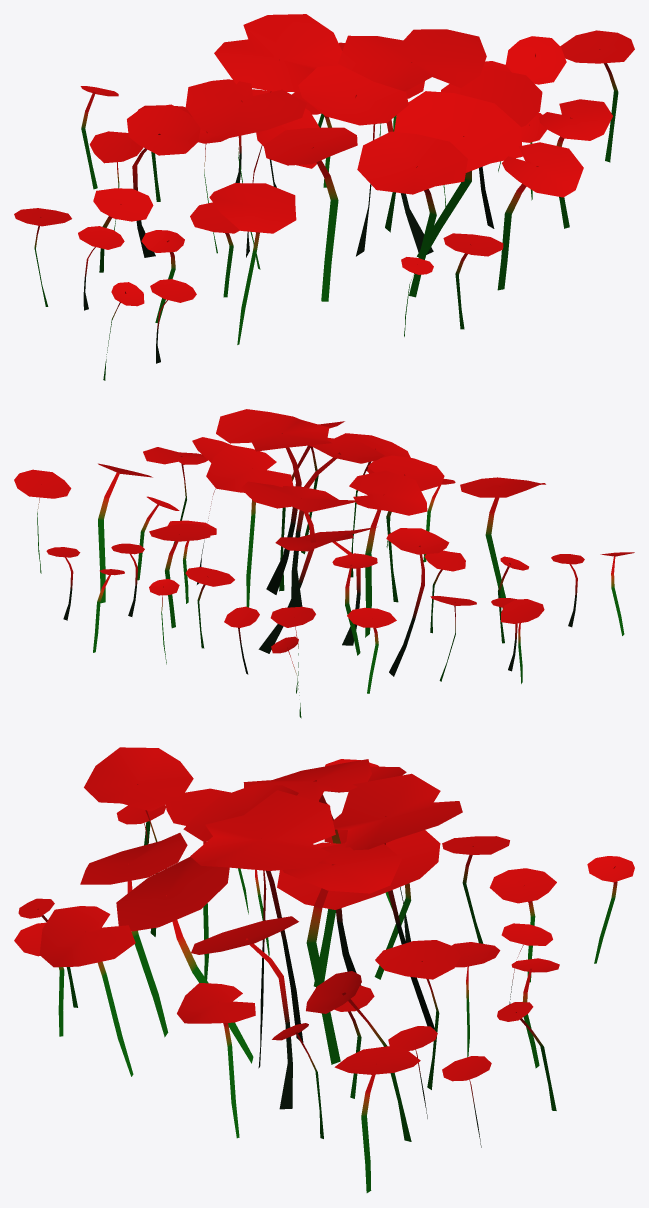
File: rijwE_Var3_LOD0.fbx
The picture shows the model from 3 angles, top to bottom: view 1: azimuth 30°, elevation 25°; view 2: azimuth 150°, elevation 25°; view 3: azimuth 270°, elevation 25°; orthographic projection. The views are drawn at different scales.
Parts seen in each view (by area): view 1: _aa07_Var3_LOD0; view 2: _aa07_Var3_LOD0; view 3: _aa07_Var3_LOD0.
Boxes of the visible parts, bbox=[...] form: _aa07_Var3_LOD0: bbox=[14, 14, 634, 380]; _aa07_Var3_LOD0: bbox=[14, 409, 634, 718]; _aa07_Var3_LOD0: bbox=[14, 747, 634, 1192].
Size of the model in its own units: 73.89 by 23.62 by 55.75.
